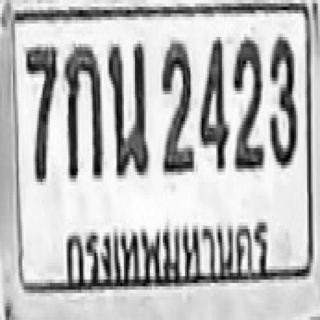A01: (63, 42, 102, 177)
A25: (107, 40, 148, 175)
N02: (160, 39, 193, 170), (231, 37, 263, 168)
N03: (268, 34, 296, 165)
N04: (198, 34, 228, 168)
N07: (24, 44, 57, 182)
P04: (55, 205, 273, 288)
